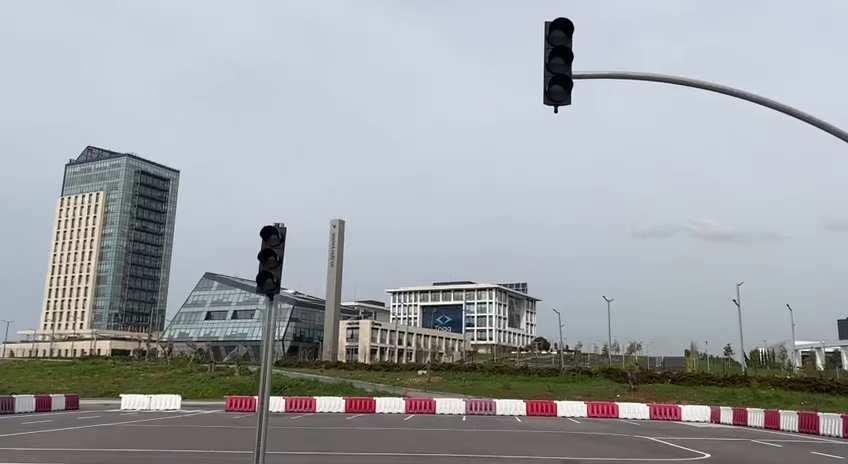trafficLight: (540, 17, 578, 114), (252, 218, 291, 300)
